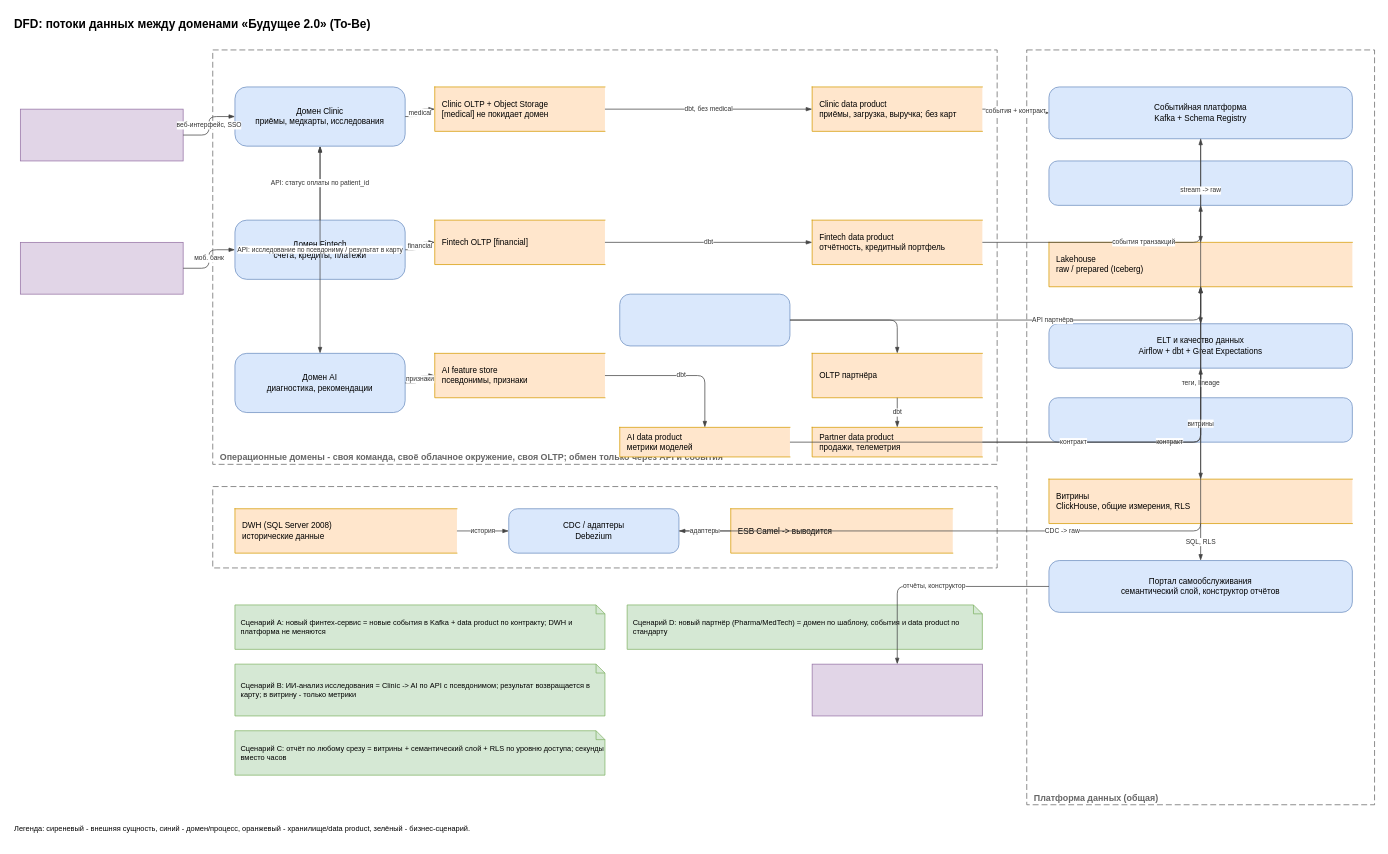
Image size: 1388x854. Some labels were removed from this diagram. Each missing label, with the box of its shape:
API Gateway + IdP контракты, OAuth2, OPA: (1048, 160, 1352, 205)
Legacy (read-only): (212, 486, 997, 568)
Домен партнёра (Pharma / MedTech) - по шаблону: (619, 293, 790, 346)
Каталог данных глоссарий, владельцы, lineage, теги: (1048, 397, 1352, 442)
Клиенты банка и пациенты: (20, 242, 183, 294)
Операторы клиник, врачи: (20, 108, 183, 161)
Руководство, бизнес-аналитики: (811, 663, 982, 716)
